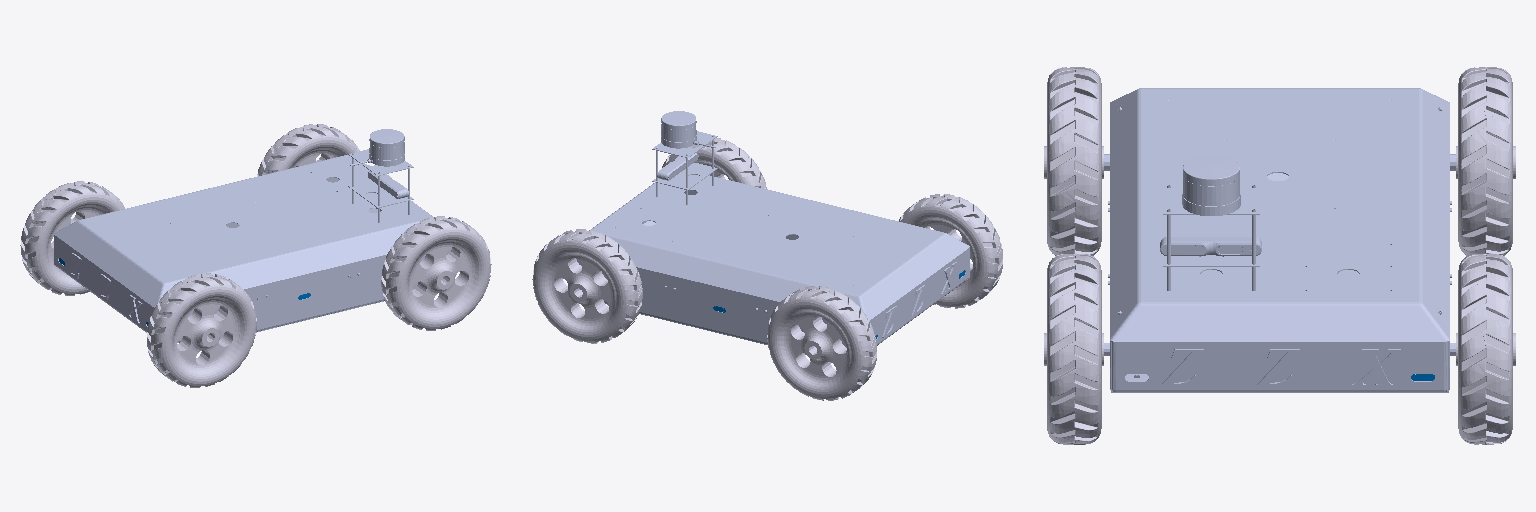
The robot description file, URDF, robot "zzx_run_robot":
<?xml version="1.0" encoding="utf-8"?>
<!-- This URDF was automatically created by ZZX-->
<robot
  name="zzx_run_robot">
  <link
    name="base_link">
    <inertial>
      <origin
        xyz="0.00741047992278929 -0.00341114189657439 0.114186284669122"
        rpy="0 0 0" />
      <mass
        value="3.96236436148786" />
      <inertia
        ixx="0.178506185725259"
        ixy="0.000108304306880873"
        ixz="0.000169549055394087"
        iyy="0.404759631587269"
        iyz="1.00448230235288E-06"
        izz="0.561130623679876" />
    </inertial>
    <visual>
      <origin
        xyz="0 0 0"
        rpy="0 0 0" />
      <geometry>
        <mesh
          filename="package://zzx_run_description/meshes/base_link.STL" />
      </geometry>
      <material
        name="">
        <color
          rgba="0.792156862745098 0.819607843137255 0.933333333333333 1" />
      </material>
    </visual>
    <collision>
      <origin
        xyz="0 0 0"
        rpy="0 0 0" />
      <geometry>
        <mesh
          filename="package://zzx_run_description/meshes/base_link.STL" />
      </geometry>
    </collision>
  </link>
  <link
    name="left_front_wheel_link">
    <inertial>
      <origin
        xyz="-4.78387528979329E-07 0.0527999229567212 -1.21519264034697E-06"
        rpy="0 0 0" />
      <mass
        value="5.58816289074736" />
      <inertia
        ixx="0.0467264175417539"
        ixy="4.21922638423182E-10"
        ixz="4.31360254637763E-10"
        iyy="0.0872654610518181"
        iyz="5.11812738578019E-11"
        izz="0.0467264187453853" />
    </inertial>
    <visual>
      <origin
        xyz="0 0 0"
        rpy="0 0 0" />
      <geometry>
        <mesh
          filename="package://zzx_run_description/meshes/left_front_wheel_link.STL" />
      </geometry>
      <material
        name="">
        <color
          rgba="0.83921568627451 0.83921568627451 0.92156862745098 1" />
      </material>
    </visual>
    <collision>
      <origin
        xyz="0 0 0"
        rpy="0 0 0" />
      <geometry>
        <mesh
          filename="package://zzx_run_description/meshes/left_front_wheel_link.STL" />
      </geometry>
    </collision>
  </link>
  <joint
    name="left_front_wheel_link_joint"
    type="continuous">
    <origin
      xyz="0.390000000000006 0.309999999999989 0.0849999999999932"
      rpy="0 0 0" />
    <parent
      link="base_link" />
    <child
      link="left_front_wheel_link" />
    <axis
      xyz="0 -1 0" />
  </joint>
  <link
    name="left_behind_wheel_link">
    <inertial>
      <origin
        xyz="1.31378196099874E-07 0.0527999220844182 -1.30022679351027E-06"
        rpy="0 0 0" />
      <mass
        value="5.58816261475792" />
      <inertia
        ixx="0.0467264178495617"
        ixy="-1.48432408253074E-10"
        ixz="3.45934344448938E-11"
        iyy="0.0872654610290871"
        iyz="5.288073487882E-10"
        izz="0.0467264184119642" />
    </inertial>
    <visual>
      <origin
        xyz="0 0 0"
        rpy="0 0 0" />
      <geometry>
        <mesh
          filename="package://zzx_run_description/meshes/left_behind_wheel_link.STL" />
      </geometry>
      <material
        name="">
        <color
          rgba="0.83921568627451 0.83921568627451 0.92156862745098 1" />
      </material>
    </visual>
    <collision>
      <origin
        xyz="0 0 0"
        rpy="0 0 0" />
      <geometry>
        <mesh
          filename="package://zzx_run_description/meshes/left_behind_wheel_link.STL" />
      </geometry>
    </collision>
  </link>
  <joint
    name="left_behind_wheel_link_joint"
    type="continuous">
    <origin
      xyz="-0.389999999999994 0.31 0.0850000000000068"
      rpy="0 0 0" />
    <parent
      link="base_link" />
    <child
      link="left_behind_wheel_link" />
    <axis
      xyz="0 -1 0" />
  </joint>
  <link
    name="right_front_wheel_link">
    <inertial>
      <origin
        xyz="1.23487383696386E-06 -0.052800077037773 4.18657537137879E-07"
        rpy="0 0 0" />
      <mass
        value="5.58816289283226" />
      <inertia
        ixx="0.0467264183997509"
        ixy="-4.77846900738126E-10"
        ixz="9.0196657416584E-11"
        iyy="0.0872654610291803"
        iyz="-2.63885619866361E-10"
        izz="0.0467264178624116" />
    </inertial>
    <visual>
      <origin
        xyz="0 0 0"
        rpy="0 0 0" />
      <geometry>
        <mesh
          filename="package://zzx_run_description/meshes/right_front_wheel_link.STL" />
      </geometry>
      <material
        name="">
        <color
          rgba="0.83921568627451 0.83921568627451 0.92156862745098 1" />
      </material>
    </visual>
    <collision>
      <origin
        xyz="0 0 0"
        rpy="0 0 0" />
      <geometry>
        <mesh
          filename="package://zzx_run_description/meshes/right_front_wheel_link.STL" />
      </geometry>
    </collision>
  </link>
  <joint
    name="right_front_wheel_link_joint"
    type="continuous">
    <origin
      xyz="0.389999999999997 -0.309999999999999 0.0849999999999932"
      rpy="0 0 0" />
    <parent
      link="base_link" />
    <child
      link="right_front_wheel_link" />
    <axis
      xyz="0 -1 0" />
  </joint>
  <link
    name="right_behind_wheel_link">
    <inertial>
      <origin
        xyz="-1.17487549072814E-06 -0.0528000779026511 5.64813343303938E-07"
        rpy="0 0 0" />
      <mass
        value="5.58816261843466" />
      <inertia
        ixx="0.0467264186791865"
        ixy="2.30502475654598E-11"
        ixz="-5.12433901318596E-10"
        iyy="0.0872654610531356"
        iyz="-4.26967668323502E-10"
        izz="0.0467264176094793" />
    </inertial>
    <visual>
      <origin
        xyz="0 0 0"
        rpy="0 0 0" />
      <geometry>
        <mesh
          filename="package://zzx_run_description/meshes/right_behind_wheel_link.STL" />
      </geometry>
      <material
        name="">
        <color
          rgba="0.83921568627451 0.83921568627451 0.92156862745098 1" />
      </material>
    </visual>
    <collision>
      <origin
        xyz="0 0 0"
        rpy="0 0 0" />
      <geometry>
        <mesh
          filename="package://zzx_run_description/meshes/right_behind_wheel_link.STL" />
      </geometry>
    </collision>
  </link>
  <joint
    name="right_behind_wheel_link_joint"
    type="continuous">
    <origin
      xyz="-0.390000000000003 -0.309999999999988 0.0850000000000068"
      rpy="0 0 0" />
    <parent
      link="base_link" />
    <child
      link="right_behind_wheel_link" />
    <axis
      xyz="0 -1 0" />
  </joint>
  <link
    name="camera_link">
    <inertial>
      <origin
        xyz="-0.0168162954023792 0.00256898920993011 -0.000512016798250026"
        rpy="0 0 0" />
      <mass
        value="0.146986742470214" />
      <inertia
        ixx="0.000382731548245758"
        ixy="4.93963664924208E-07"
        ixz="-2.21084683413792E-07"
        iyy="2.18219626833256E-05"
        iyz="1.36591231466188E-08"
        izz="0.00039064219791682" />
    </inertial>
    <visual>
      <origin
        xyz="0 0 0"
        rpy="0 0 0" />
      <geometry>
        <mesh
          filename="package://zzx_run_description/meshes/camera_link.STL" />
      </geometry>
      <material
        name="">
        <color
          rgba="0.792156862745098 0.819607843137255 0.933333333333333 1" />
      </material>
    </visual>
    <collision>
      <origin
        xyz="0 0 0"
        rpy="0 0 0" />
      <geometry>
        <mesh
          filename="package://zzx_run_description/meshes/camera_link.STL" />
      </geometry>
    </collision>
  </link>
  <joint
    name="camera_link_joint"
    type="fixed">
    <origin
      xyz="0.386266044151218 -0.124376808120098 0.277447441433298"
      rpy="0 0 0" />
    <parent
      link="base_link" />
    <child
      link="camera_link" />
    <axis
      xyz="0 0 0" />
  </joint>
  <link
    name="lidar_link">
    <inertial>
      <origin
        xyz="-0.000294907920402432 -2.58127452130996E-06 0.0357873616759956"
        rpy="0 0 0" />
      <mass
        value="0.584837208798273" />
      <inertia
        ixx="0.000628734791137339"
        ixy="1.12598116749922E-10"
        ixz="6.85180097758129E-08"
        iyy="0.000630029723696654"
        iyz="-5.00698245263915E-08"
        izz="0.000749153306350983" />
    </inertial>
    <visual>
      <origin
        xyz="0 0 0"
        rpy="0 0 0" />
      <geometry>
        <mesh
          filename="package://zzx_run_description/meshes/lidar_link.STL" />
      </geometry>
      <material
        name="">
        <color
          rgba="0.792156862745098 0.819607843137255 0.933333333333333 1" />
      </material>
    </visual>
    <collision>
      <origin
        xyz="0 0 0"
        rpy="0 0 0" />
      <geometry>
        <mesh
          filename="package://zzx_run_description/meshes/lidar_link.STL" />
      </geometry>
    </collision>
  </link>
  <joint
    name="lidar_link_joint"
    type="fixed">
    <origin
      xyz="0.365857864376286 -0.120857864376271 0.356652891956056"
      rpy="0 0 0" />
    <parent
      link="base_link" />
    <child
      link="lidar_link" />
    <axis
      xyz="0 0 0" />
  </joint>
  <link
    name="sensor_front_left_link">
    <inertial>
      <origin
        xyz="0.000750000000000028 0 3.09553724072015E-05"
        rpy="0 0 0" />
      <mass
        value="0.00132898274514749" />
      <inertia
        ixx="2.65815808309703E-07"
        ixy="-3.24870024445377E-21"
        ixz="-7.30857667981816E-22"
        iyy="4.3932216790417E-08"
        iyz="2.51382133997089E-23"
        izz="2.22381960048716E-07" />
    </inertial>
    <visual>
      <origin
        xyz="0 0 0"
        rpy="0 0 0" />
      <geometry>
        <mesh
          filename="package://zzx_run_description/meshes/sensor_front_left_link.STL" />
      </geometry>
      <material
        name="">
        <color
          rgba="0.00784313725490196 0.501960784313725 0.823529411764706 1" />
      </material>
    </visual>
    <collision>
      <origin
        xyz="0 0 0"
        rpy="0 0 0" />
      <geometry>
        <mesh
          filename="package://zzx_run_description/meshes/sensor_front_left_link.STL" />
      </geometry>
    </collision>
  </link>
  <joint
    name="sensor_front_left_link_joint"
    type="fixed">
    <origin
      xyz="0.496500000000005 0.251999999999993 0.0812075922005525"
      rpy="0 0 0" />
    <parent
      link="base_link" />
    <child
      link="sensor_front_left_link" />
    <axis
      xyz="0 0 0" />
  </joint>
  <link
    name="sensor_front_right_link">
    <inertial>
      <origin
        xyz="-0.00109177850153874 -7.49896209573109E-08 -2.31929230855993E-05"
        rpy="0 0 0" />
      <mass
        value="7.00274812620844E-05" />
      <inertia
        ixx="6.82924437603274E-10"
        ixy="2.65325849768784E-15"
        ixz="-1.17242461319838E-12"
        iyy="1.19817207558257E-10"
        iyz="5.21250136782328E-15"
        izz="5.98449941960741E-10" />
    </inertial>
    <visual>
      <origin
        xyz="0 0 0"
        rpy="0 0 0" />
      <geometry>
        <mesh
          filename="package://zzx_run_description/meshes/sensor_front_right_link.STL" />
      </geometry>
      <material
        name="">
        <color
          rgba="0.666666666666667 0.698039215686274 0.768627450980392 1" />
      </material>
    </visual>
    <collision>
      <origin
        xyz="0 0 0"
        rpy="0 0 0" />
      <geometry>
        <mesh
          filename="package://zzx_run_description/meshes/sensor_front_right_link.STL" />
      </geometry>
    </collision>
  </link>
  <joint
    name="sensor_front_right_link_joint"
    type="fixed">
    <origin
      xyz="0.496503236661323 -0.252916659440427 0.081388179281911"
      rpy="0 0 0" />
    <parent
      link="base_link" />
    <child
      link="sensor_front_right_link" />
    <axis
      xyz="0 0 0" />
  </joint>
  <link
    name="sensor_behind_left_link">
    <inertial>
      <origin
        xyz="-0.000750000000000028 5.55111512312578E-17 3.09553724072015E-05"
        rpy="0 0 0" />
      <mass
        value="0.00132898274514748" />
      <inertia
        ixx="2.65815808309701E-07"
        ixy="-3.19304338349288E-21"
        ixz="-7.5601583612258E-22"
        iyy="4.39322167904166E-08"
        iyz="-3.65599011246738E-22"
        izz="2.22381960048715E-07" />
    </inertial>
    <visual>
      <origin
        xyz="0 0 0"
        rpy="0 0 0" />
      <geometry>
        <mesh
          filename="package://zzx_run_description/meshes/sensor_behind_left_link.STL" />
      </geometry>
      <material
        name="">
        <color
          rgba="0.00784313725490196 0.501960784313725 0.823529411764706 1" />
      </material>
    </visual>
    <collision>
      <origin
        xyz="0 0 0"
        rpy="0 0 0" />
      <geometry>
        <mesh
          filename="package://zzx_run_description/meshes/sensor_behind_left_link.STL" />
      </geometry>
    </collision>
  </link>
  <joint
    name="sensor_behind_left_link_joint"
    type="fixed">
    <origin
      xyz="-0.496499999999995 0.253000000000007 0.0812075922005699"
      rpy="0 0 0" />
    <parent
      link="base_link" />
    <child
      link="sensor_behind_left_link" />
    <axis
      xyz="0 0 0" />
  </joint>
  <link
    name="sensor_behind_right_link">
    <inertial>
      <origin
        xyz="-0.000750000000000028 0 3.09553724072292E-05"
        rpy="0 0 0" />
      <mass
        value="0.00132898274514749" />
      <inertia
        ixx="2.65815808309703E-07"
        ixy="-3.01916904385809E-21"
        ixz="-8.29243934464277E-22"
        iyy="4.39322167904169E-08"
        iyz="-1.53436981481006E-22"
        izz="2.22381960048716E-07" />
    </inertial>
    <visual>
      <origin
        xyz="0 0 0"
        rpy="0 0 0" />
      <geometry>
        <mesh
          filename="package://zzx_run_description/meshes/sensor_behind_right_link.STL" />
      </geometry>
      <material
        name="">
        <color
          rgba="0.00784313725490196 0.501960784313725 0.823529411764706 1" />
      </material>
    </visual>
    <collision>
      <origin
        xyz="0 0 0"
        rpy="0 0 0" />
      <geometry>
        <mesh
          filename="package://zzx_run_description/meshes/sensor_behind_right_link.STL" />
      </geometry>
    </collision>
  </link>
  <joint
    name="sensor_behind_right_link_joint"
    type="fixed">
    <origin
      xyz="-0.496500000000002 -0.252999999999993 0.0812075922005699"
      rpy="0 0 0" />
    <parent
      link="base_link" />
    <child
      link="sensor_behind_right_link" />
    <axis
      xyz="0 0 0" />
  </joint>
  <link
    name="sensor_left_link">
    <inertial>
      <origin
        xyz="-5.20417042793042E-18 0.000749999999999973 3.09553724072292E-05"
        rpy="0 0 0" />
      <mass
        value="0.00132898274514749" />
      <inertia
        ixx="4.39322167904169E-08"
        ixy="3.25536946488268E-21"
        ixz="3.07236956960054E-21"
        iyy="2.65815808309703E-07"
        iyz="1.1614249076827E-24"
        izz="2.22381960048716E-07" />
    </inertial>
    <visual>
      <origin
        xyz="0 0 0"
        rpy="0 0 0" />
      <geometry>
        <mesh
          filename="package://zzx_run_description/meshes/sensor_left_link.STL" />
      </geometry>
      <material
        name="">
        <color
          rgba="0.00784313725490196 0.501960784313725 0.823529411764706 1" />
      </material>
    </visual>
    <collision>
      <origin
        xyz="0 0 0"
        rpy="0 0 0" />
      <geometry>
        <mesh
          filename="package://zzx_run_description/meshes/sensor_left_link.STL" />
      </geometry>
    </collision>
  </link>
  <joint
    name="sensor_left_link_joint"
    type="fixed">
    <origin
      xyz="-0.0109999999999945 0.2965 0.0798244648313157"
      rpy="0 0 0" />
    <parent
      link="base_link" />
    <child
      link="sensor_left_link" />
    <axis
      xyz="0 0 0" />
  </joint>
  <link
    name="sensor_right_link">
    <inertial>
      <origin
        xyz="1.73472347597681E-18 -0.000750000000000028 3.09553724072154E-05"
        rpy="0 0 0" />
      <mass
        value="0.00132898274514748" />
      <inertia
        ixx="4.39322167904168E-08"
        ixy="3.2596193594168E-21"
        ixz="3.15270186615642E-21"
        iyy="2.65815808309702E-07"
        iyz="3.06525351744164E-24"
        izz="2.22381960048716E-07" />
    </inertial>
    <visual>
      <origin
        xyz="0 0 0"
        rpy="0 0 0" />
      <geometry>
        <mesh
          filename="package://zzx_run_description/meshes/sensor_right_link.STL" />
      </geometry>
      <material
        name="">
        <color
          rgba="0.00784313725490196 0.501960784313725 0.823529411764706 1" />
      </material>
    </visual>
    <collision>
      <origin
        xyz="0 0 0"
        rpy="0 0 0" />
      <geometry>
        <mesh
          filename="package://zzx_run_description/meshes/sensor_right_link.STL" />
      </geometry>
    </collision>
  </link>
  <joint
    name="sensor_right_link_joint"
    type="fixed">
    <origin
      xyz="-0.0120000000000028 -0.2965 0.0798244648313158"
      rpy="0 0 0" />
    <parent
      link="base_link" />
    <child
      link="sensor_right_link" />
    <axis
      xyz="0 0 0" />
  </joint>


  <link name="base_footprint">
            <visual>
                <origin xyz="0 0 0" rpy="0 0 0" />
                <geometry>
                    <box size="0.001 0.001 0.001" />
                </geometry>
            </visual>
  </link>

  <joint name="base_footprint_joint" type="fixed">
            <origin xyz="0 0 0.06746" rpy="0 0 0" />
            <parent link="base_footprint"/>
            <child link="base_link" />
  </joint>
</robot>

--- Render facts (derived) ---
Views: 3 orthographic renders of the robot side by side, from view 1: azimuth 30°, elevation 25°; view 2: azimuth 150°, elevation 25°; view 3: azimuth 270°, elevation 25°.
Model zzx_run_robot with 14 links and 13 joints (4 continuous, 9 fixed), rooted at base_footprint, posed all joints at 0.
Visible links, largest first — view 1: base_link, right_front_wheel_link, right_behind_wheel_link, left_behind_wheel_link, left_front_wheel_link, lidar_link; view 2: base_link, left_behind_wheel_link, left_front_wheel_link, right_behind_wheel_link, right_front_wheel_link, lidar_link; view 3: base_link, right_front_wheel_link, left_front_wheel_link, right_behind_wheel_link, left_behind_wheel_link, lidar_link, camera_link.
Link boxes in pixels (x1,y1,x2,y2): base_link: [54, 149, 451, 342]; right_front_wheel_link: [381, 216, 491, 330]; right_behind_wheel_link: [147, 273, 256, 387]; left_behind_wheel_link: [20, 181, 125, 295]; left_front_wheel_link: [257, 124, 359, 176]; lidar_link: [350, 129, 404, 166]; base_link: [577, 131, 969, 354]; left_behind_wheel_link: [767, 286, 876, 400]; left_front_wheel_link: [532, 229, 642, 343]; right_behind_wheel_link: [899, 194, 1002, 308]; right_front_wheel_link: [662, 138, 767, 189]; lidar_link: [661, 111, 715, 148]; base_link: [1104, 88, 1455, 392]; right_front_wheel_link: [1044, 254, 1103, 444]; left_front_wheel_link: [1456, 254, 1515, 444]; right_behind_wheel_link: [1044, 67, 1103, 255]; left_behind_wheel_link: [1456, 67, 1515, 255]; lidar_link: [1182, 155, 1240, 215]; camera_link: [1160, 237, 1261, 255].
Bounding box of the posed robot: 1.12 × 0.8312 × 0.5124 m (x, y, z).
Meshes: 13 distinct files referenced, 13 mesh visuals loaded (13 binary STL).
